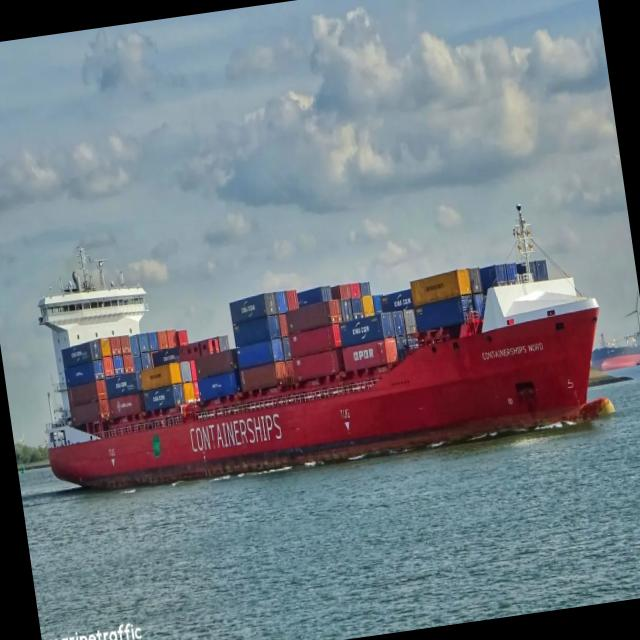Cargo: (39, 205, 601, 488)
